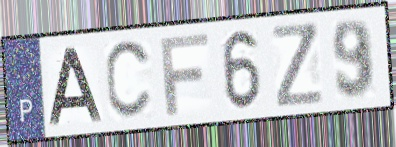6: (219, 28, 264, 112)
9: (330, 17, 377, 102)
A: (46, 45, 105, 127)
C: (103, 37, 155, 123)
F: (157, 31, 211, 118)
Z: (269, 19, 327, 110)
